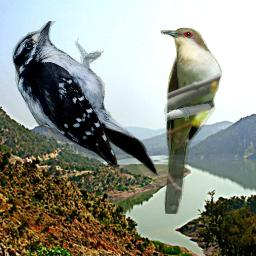Cuckoo: (160, 27, 223, 214)
Woodpecker: (10, 21, 160, 176)
